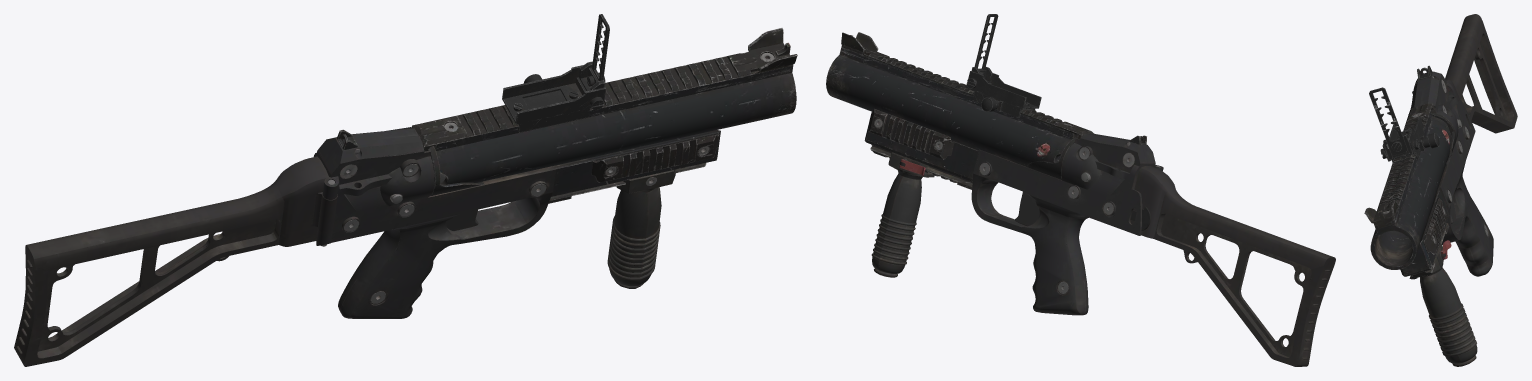
Rendered from thumper.glb.
The picture shows the model from 3 angles, left to right: view 1: azimuth 30°, elevation 25°; view 2: azimuth 150°, elevation 25°; view 3: azimuth 270°, elevation 25°; orthographic projection. The views are drawn at different scales.
Parts seen in each view (by area): view 1: Obj_1_Lowpoly_Material #27_0, Obj_14_Lowpoly_Material #27_0, Obj_11_Lowpoly_Material #27_0, Obj_12_Lowpoly_Material #27_0, Obj_6_Lowpoly_Material #27_0, Obj_10_Lowpoly_Material #27_0, Scope_6_Lowpoly_Material #26_0, Obj_19_Lowpoly_Material #27_0, Scope_5_Lowpoly_Material #26_0, Obj_2_Lowpoly_Material #27_0, Scope_1_Lowpoly_Material #26_0, Obj_18_Lowpoly_Material #27_0; view 2: Obj_1_Lowpoly_Material #27_0, Obj_14_Lowpoly_Material #27_0, Obj_11_Lowpoly_Material #27_0, Obj_6_Lowpoly_Material #27_0, Obj_12_Lowpoly_Material #27_0, Obj_10_Lowpoly_Material #27_0, Obj_19_Lowpoly_Material #27_0, Scope_6_Lowpoly_Material #26_0, Obj_2_Lowpoly_Material #27_0, Obj_18_Lowpoly_Material #27_0, Obj_3_Lowpoly_Material #27_0, Obj_4_Lowpoly_Material #27_0 (+2 smaller); view 3: Obj_1_Lowpoly_Material #27_0, Obj_11_Lowpoly_Material #27_0, Obj_14_Lowpoly_Material #27_0, Obj_6_Lowpoly_Material #27_0, Obj_12_Lowpoly_Material #27_0, Obj_19_Lowpoly_Material #27_0, Scope_1_Lowpoly_Material #26_0, Obj_10_Lowpoly_Material #27_0, Scope_6_Lowpoly_Material #26_0, Obj_18_Lowpoly_Material #27_0, Scope_4_Lowpoly_Material #26_0, Obj_2_Lowpoly_Material #27_0 (+4 smaller).
Part boxes in pixels (<box>): Obj_1_Lowpoly_Material #27_0: <box>313,127,555,318</box>; Obj_14_Lowpoly_Material #27_0: <box>14,156,337,366</box>; Obj_11_Lowpoly_Material #27_0: <box>434,65,796,184</box>; Obj_12_Lowpoly_Material #27_0: <box>412,28,797,151</box>; Obj_6_Lowpoly_Material #27_0: <box>607,169,675,288</box>; Obj_10_Lowpoly_Material #27_0: <box>591,133,719,182</box>; Scope_6_Lowpoly_Material #26_0: <box>502,65,605,124</box>; Obj_19_Lowpoly_Material #27_0: <box>551,130,720,196</box>; Scope_5_Lowpoly_Material #26_0: <box>517,90,589,132</box>; Obj_2_Lowpoly_Material #27_0: <box>340,146,709,303</box>; Scope_1_Lowpoly_Material #26_0: <box>592,14,609,80</box>; Obj_18_Lowpoly_Material #27_0: <box>429,145,484,196</box>; Obj_1_Lowpoly_Material #27_0: <box>971,133,1163,315</box>; Obj_14_Lowpoly_Material #27_0: <box>1130,166,1335,366</box>; Obj_11_Lowpoly_Material #27_0: <box>826,47,1075,166</box>; Obj_6_Lowpoly_Material #27_0: <box>871,152,934,277</box>; Obj_12_Lowpoly_Material #27_0: <box>841,32,1094,139</box>; Obj_10_Lowpoly_Material #27_0: <box>868,109,954,159</box>; Obj_19_Lowpoly_Material #27_0: <box>864,111,978,181</box>; Scope_6_Lowpoly_Material #26_0: <box>966,71,1041,108</box>; Obj_2_Lowpoly_Material #27_0: <box>875,119,1134,293</box>; Obj_18_Lowpoly_Material #27_0: <box>1026,137,1076,179</box>; Obj_3_Lowpoly_Material #27_0: <box>1014,191,1039,226</box>; Obj_4_Lowpoly_Material #27_0: <box>870,144,972,189</box>; Obj_1_Lowpoly_Material #27_0: <box>1408,71,1493,276</box>; Obj_11_Lowpoly_Material #27_0: <box>1370,111,1451,269</box>; Obj_14_Lowpoly_Material #27_0: <box>1445,14,1517,133</box>; Obj_6_Lowpoly_Material #27_0: <box>1420,243,1477,366</box>; Obj_12_Lowpoly_Material #27_0: <box>1364,103,1434,228</box>; Obj_19_Lowpoly_Material #27_0: <box>1400,189,1449,276</box>; Scope_1_Lowpoly_Material #26_0: <box>1369,87,1407,155</box>; Obj_10_Lowpoly_Material #27_0: <box>1423,197,1447,254</box>; Scope_6_Lowpoly_Material #26_0: <box>1382,117,1423,161</box>; Obj_18_Lowpoly_Material #27_0: <box>1431,113,1455,167</box>; Scope_4_Lowpoly_Material #26_0: <box>1380,128,1419,158</box>; Obj_2_Lowpoly_Material #27_0: <box>1432,79,1488,243</box>.
Size of the model in its own units: 0.7598 by 0.3378 by 0.1897.
Materials: 2 (2 with a texture image).
